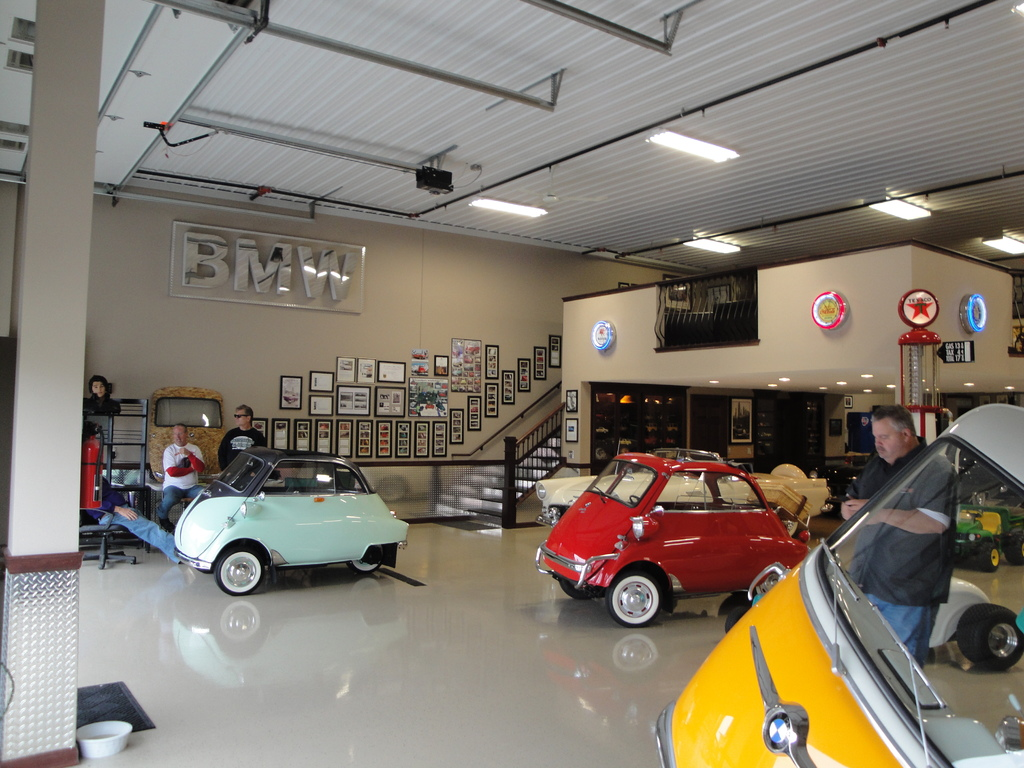Car: (650, 394, 1023, 767), (171, 453, 408, 595), (532, 446, 842, 531)
